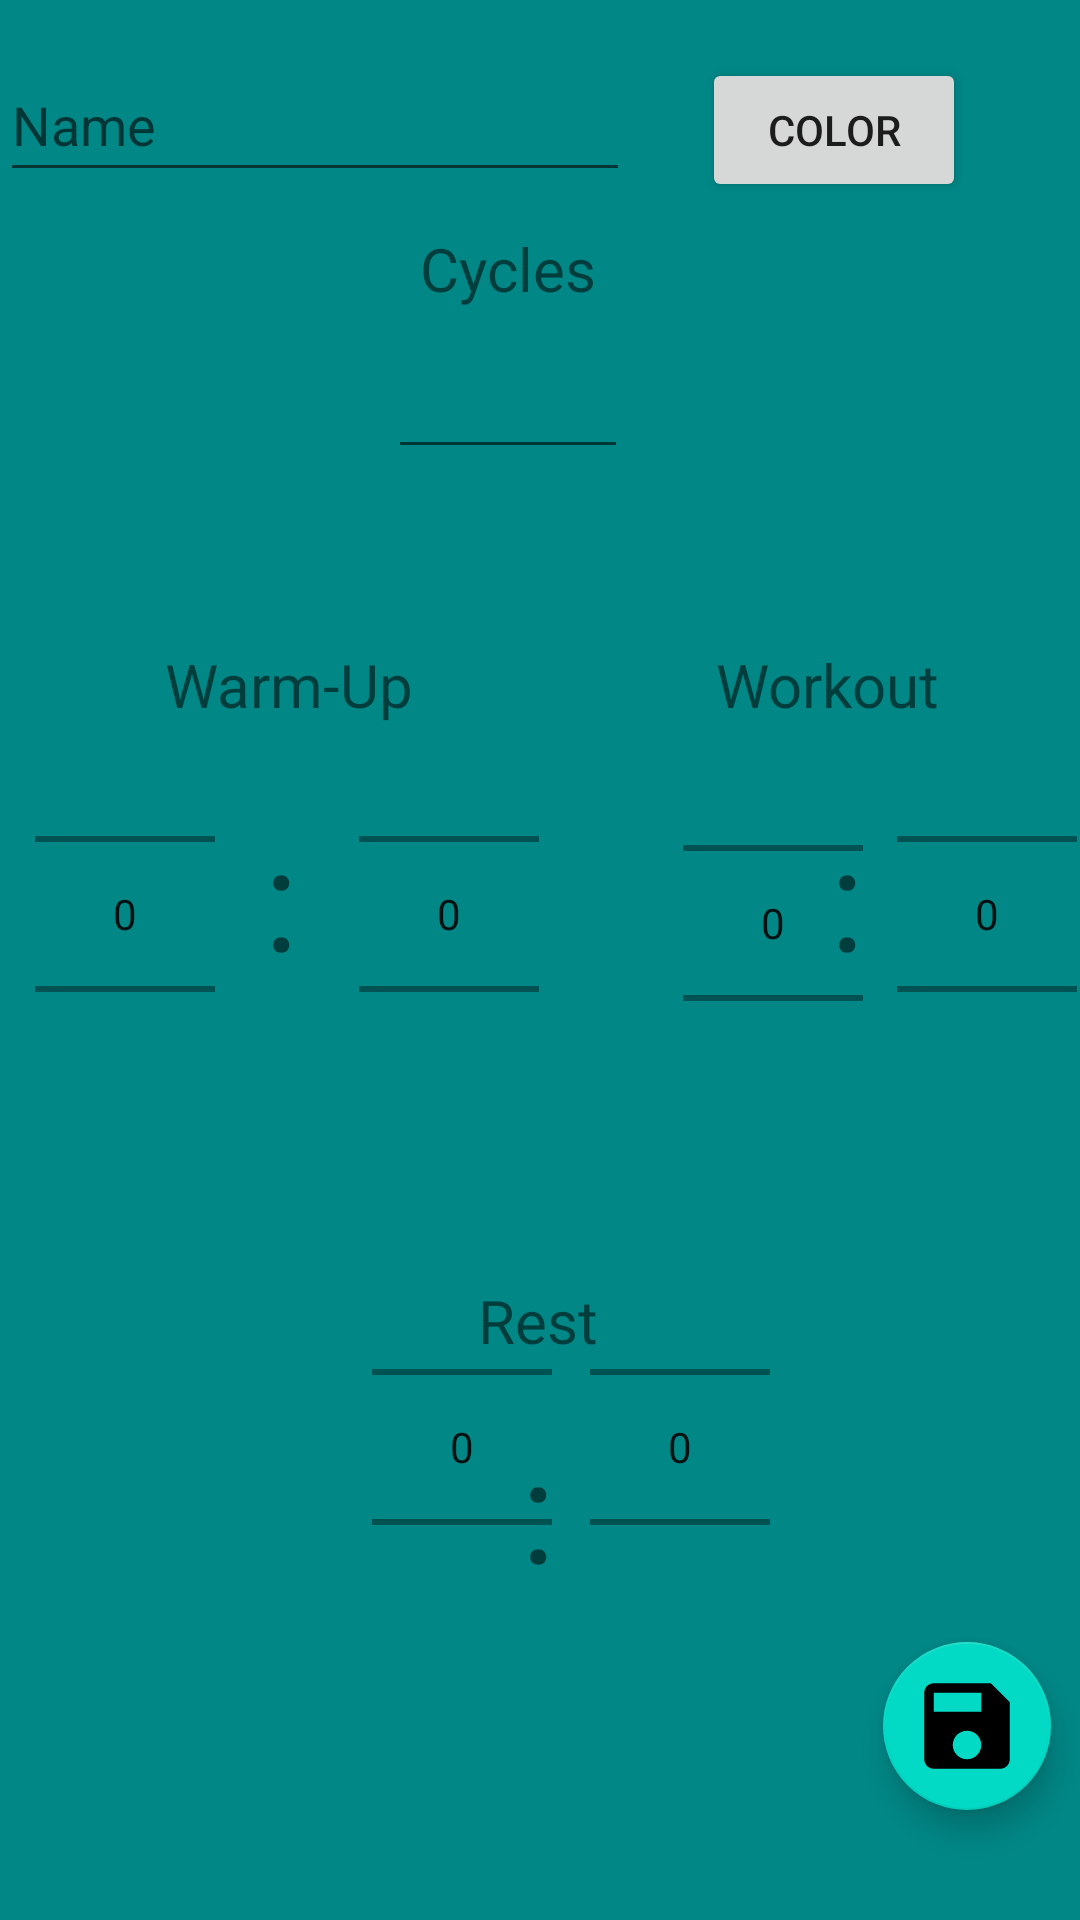

Locate icon controls on the screen. Image size 1080px×1920px, boxes as bbox=(x1, y1, x2, y2).
save: bbox=(883, 1642, 1051, 1810)
